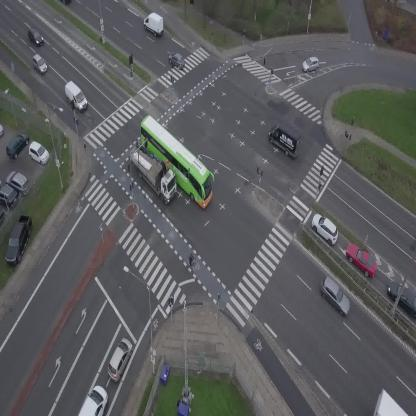bicycle: (184, 253, 200, 273)
bus: (126, 113, 225, 210)
car: (314, 274, 356, 318), (341, 238, 383, 282), (103, 336, 137, 384), (306, 209, 344, 247), (78, 382, 114, 416), (165, 49, 189, 72), (24, 25, 46, 49), (28, 52, 49, 76), (300, 55, 320, 73)
lorry: (121, 139, 186, 205), (263, 118, 308, 160), (60, 79, 91, 112), (140, 9, 169, 38)
